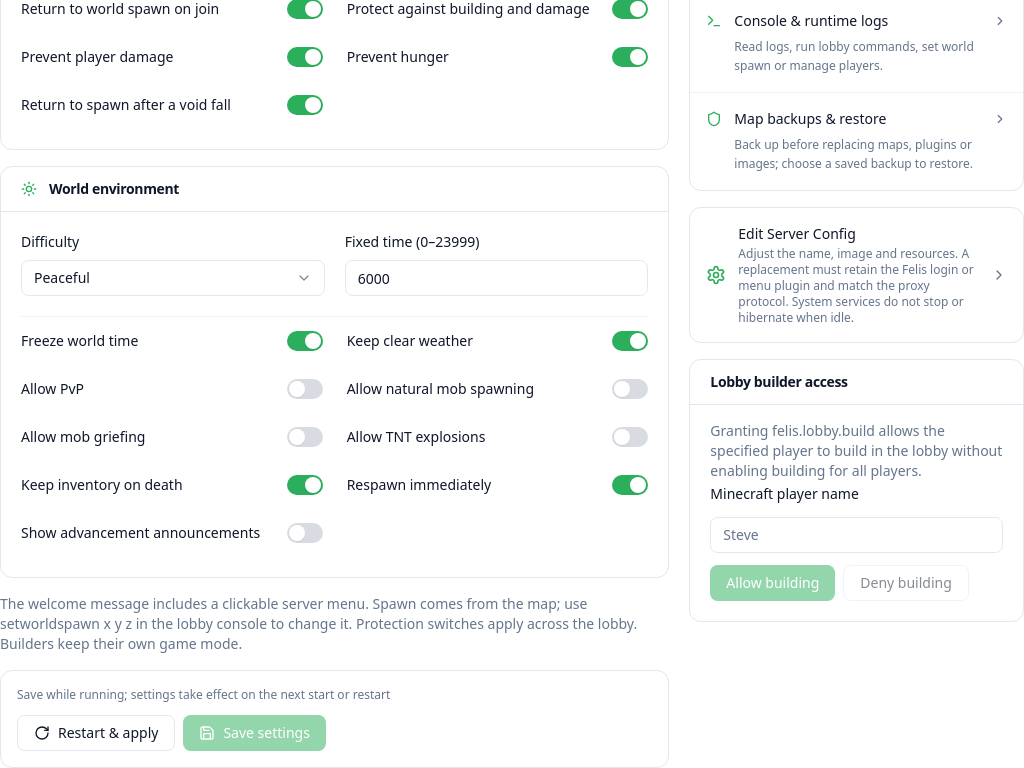
Test: LobbyPage › confirms a restart when players are online and keeps failures visible
The width and height of the screenshot is (1024, 768).
(page scrolled)
Click the button "Restart & apply" at (96, 733), box [17, 715, 175, 751]
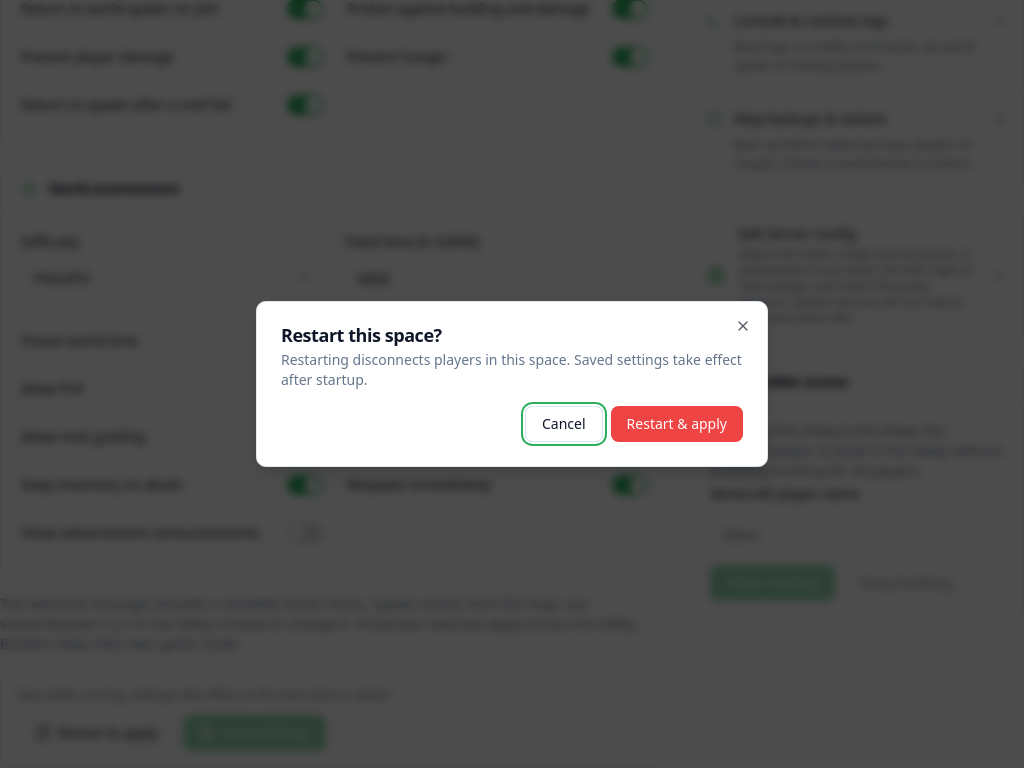
Click the button "Restart & apply" at (677, 424), box [611, 406, 743, 442]
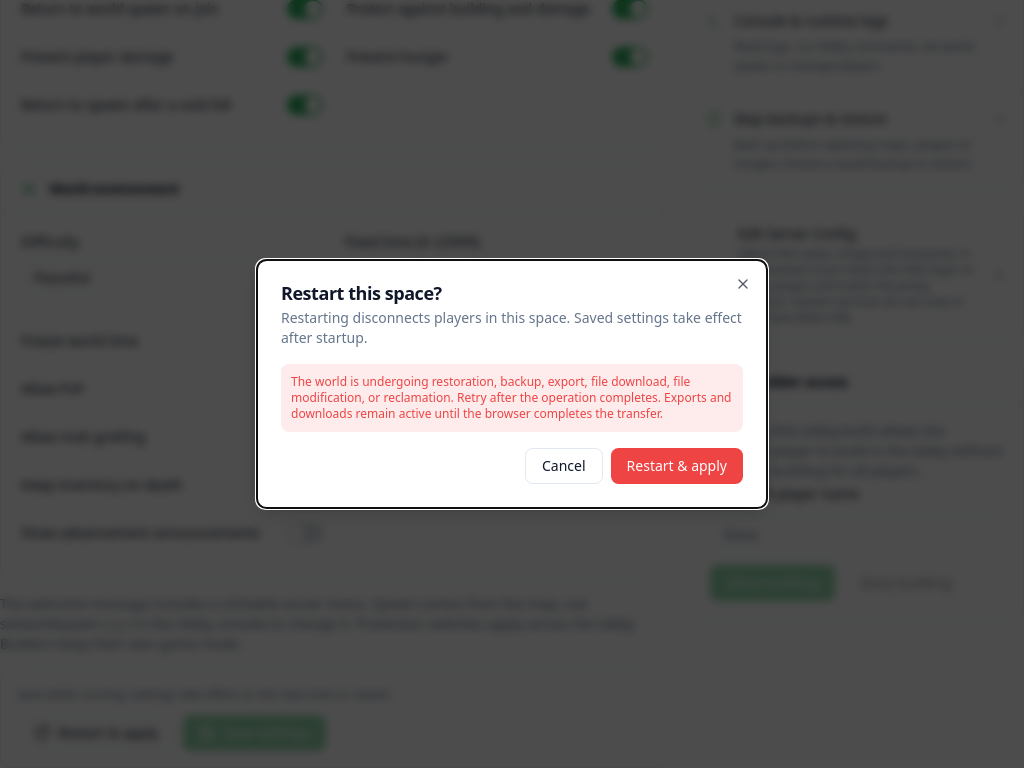
Now the dialog "Restart this space?" is shown, box [256, 259, 768, 509]
Now the message is shown, box [281, 364, 743, 432]
